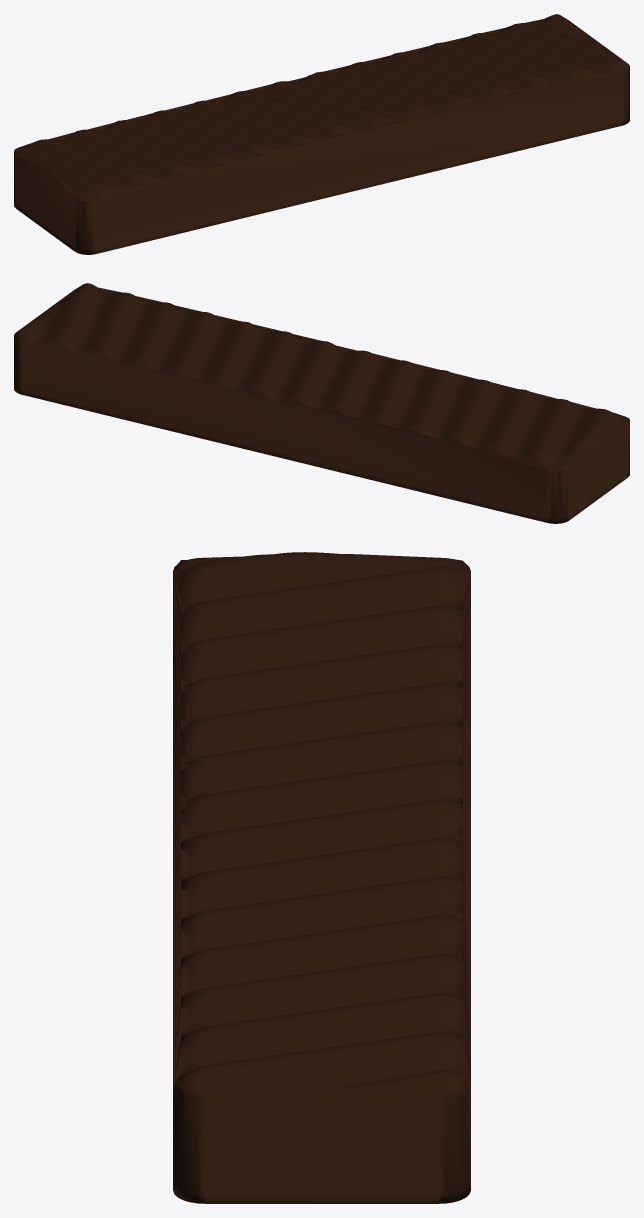
The model's file is GoProTeen_Inner_Bar_Animation.glb.
The picture shows the model from 3 angles, top to bottom: view 1: azimuth 30°, elevation 25°; view 2: azimuth 150°, elevation 25°; view 3: azimuth 270°, elevation 25°; orthographic projection. The views are drawn at different scales.
Visible parts, largest first — view 1: GP_TOP_CHOCOLATE_SHELL, GP_BOTTOM_CHOCOLATE_SHELL; view 2: GP_TOP_CHOCOLATE_SHELL, GP_BOTTOM_CHOCOLATE_SHELL; view 3: GP_TOP_CHOCOLATE_SHELL, GP_BOTTOM_CHOCOLATE_SHELL.
Part boxes in pixels (<box>): GP_TOP_CHOCOLATE_SHELL: <box>14,14,629,249</box>; GP_BOTTOM_CHOCOLATE_SHELL: <box>14,116,629,254</box>; GP_TOP_CHOCOLATE_SHELL: <box>14,283,629,518</box>; GP_BOTTOM_CHOCOLATE_SHELL: <box>14,385,629,523</box>; GP_TOP_CHOCOLATE_SHELL: <box>173,552,470,1194</box>; GP_BOTTOM_CHOCOLATE_SHELL: <box>173,1181,470,1203</box>.
Bounding box in the file's own units: 0.12 × 0.0127 × 0.028.
